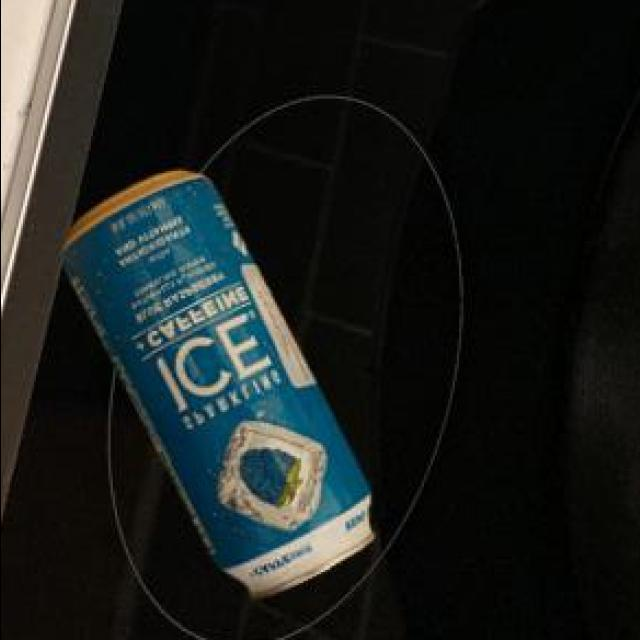logam: (62, 174, 376, 602)
